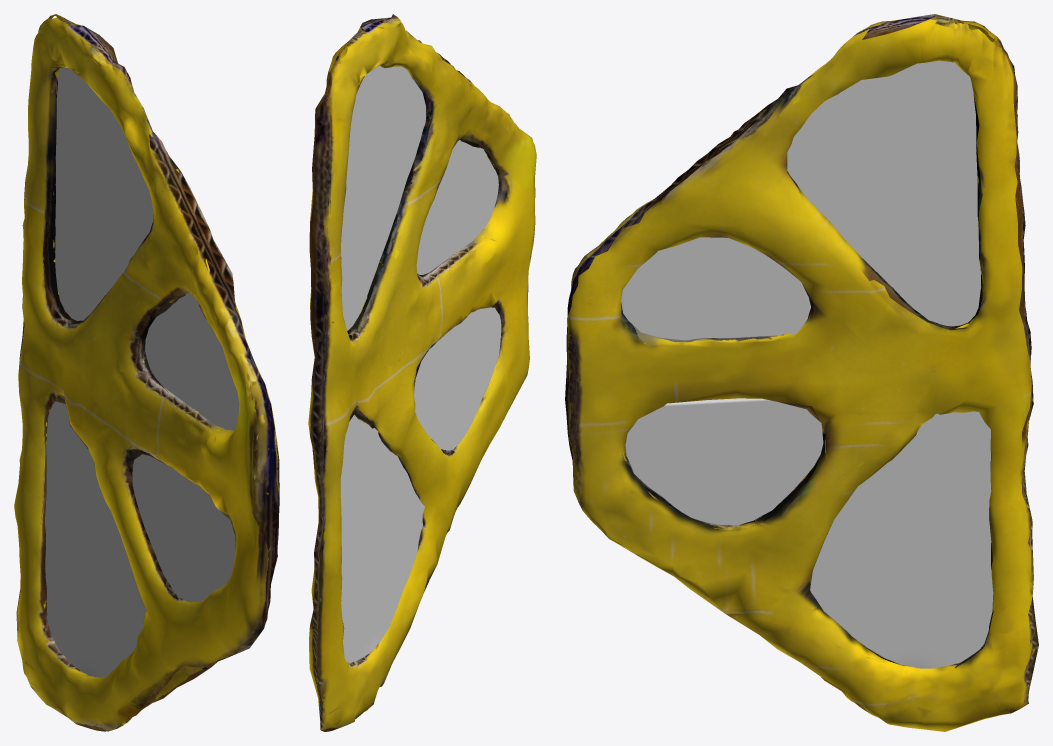
File: door.fbx
3 renders of one model, left to right at view 1: azimuth 30°, elevation 25°; view 2: azimuth 150°, elevation 25°; view 3: azimuth 270°, elevation 25°, orthographic. The views are drawn at different scales.
Parts seen in each view (by area): view 1: door_A; view 2: door_A; view 3: door_A.
Part boxes in pixels (<box>): door_A: <box>14,14,279,731</box>; door_A: <box>308,14,536,731</box>; door_A: <box>565,14,1038,731</box>.
Bounding box in the file's own units: 2.27 × 31.92 × 19.28.
